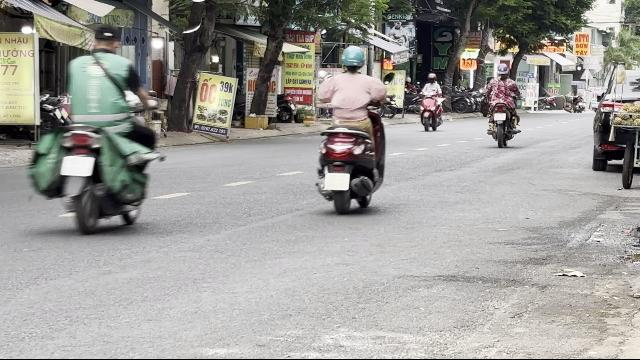helmet: (338, 44, 366, 72), (495, 62, 509, 78)
licenseplate: (60, 156, 94, 176), (324, 173, 348, 189)
motorcyclist: (25, 20, 165, 236), (312, 44, 388, 212)
nohelmet: (88, 22, 122, 52)
